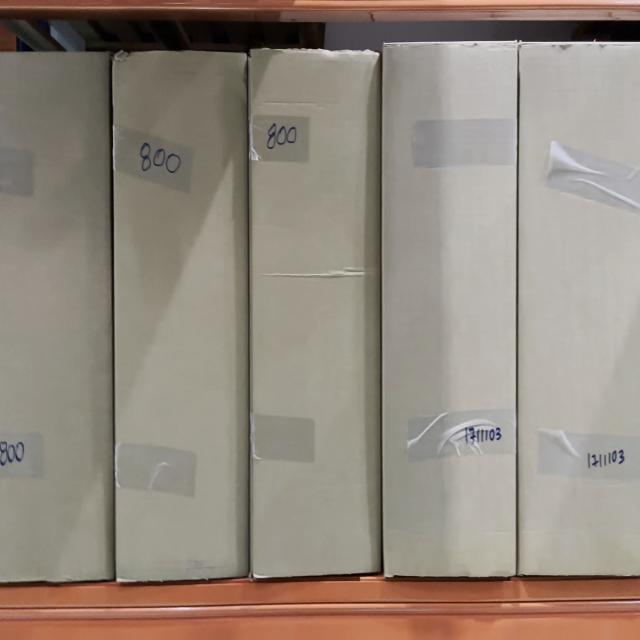box: (115, 59, 248, 569), (388, 47, 513, 572), (255, 53, 380, 570), (521, 44, 640, 574)
